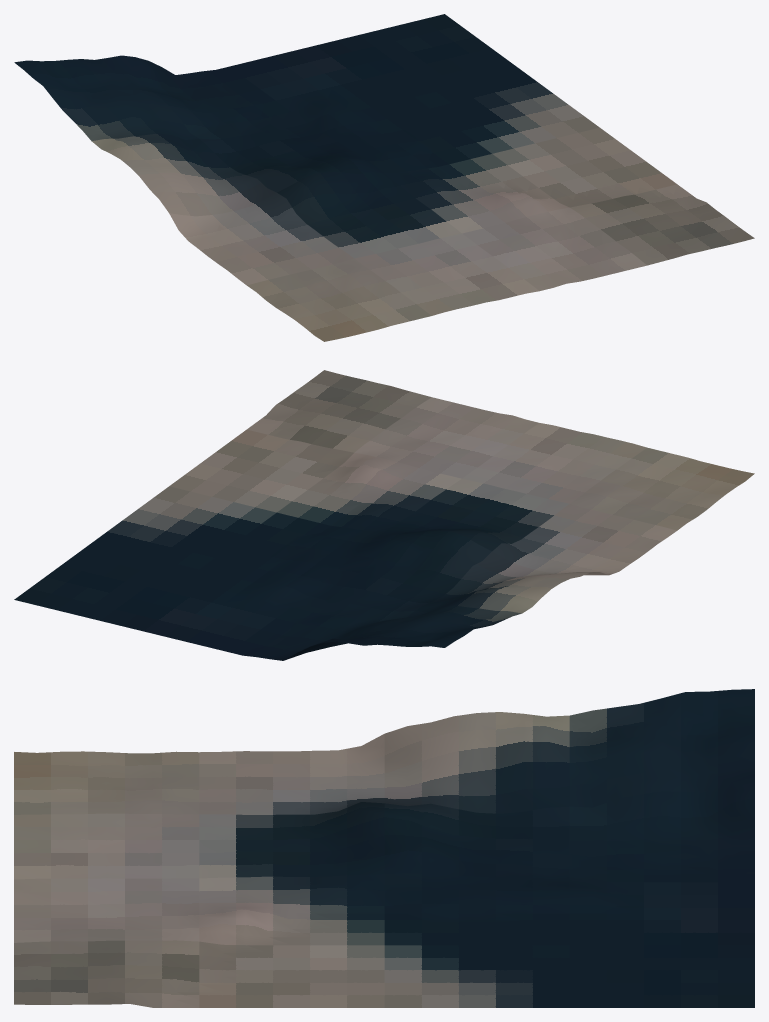
Rendered from talcahuano.gltf.
3 views of the same model, one above another, from view 1: azimuth 30°, elevation 25°; view 2: azimuth 150°, elevation 25°; view 3: azimuth 270°, elevation 25° (orthographic). The views are drawn at different scales.
Parts seen in each view (by area): view 1: TerrainNode.001; view 2: TerrainNode.001; view 3: TerrainNode.001.
Part boxes in pixels (bbox=[...]): TerrainNode.001: bbox=[14, 14, 754, 341]; TerrainNode.001: bbox=[14, 370, 754, 660]; TerrainNode.001: bbox=[14, 689, 754, 1007].
Size of the model in its own units: 13.57 by 1.71 by 16.92.
1 material, 1 textured.
